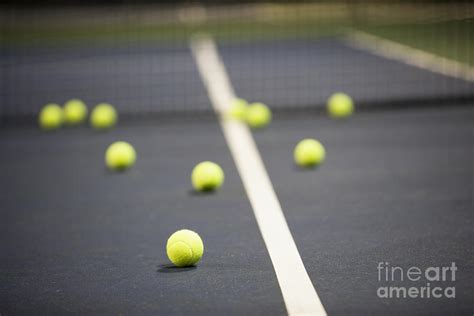tennis_ball: (165, 228, 205, 267), (192, 160, 225, 194), (293, 138, 326, 170), (104, 141, 137, 172), (246, 100, 272, 130), (89, 102, 116, 130), (326, 91, 354, 118), (62, 99, 86, 124), (39, 103, 62, 128)
